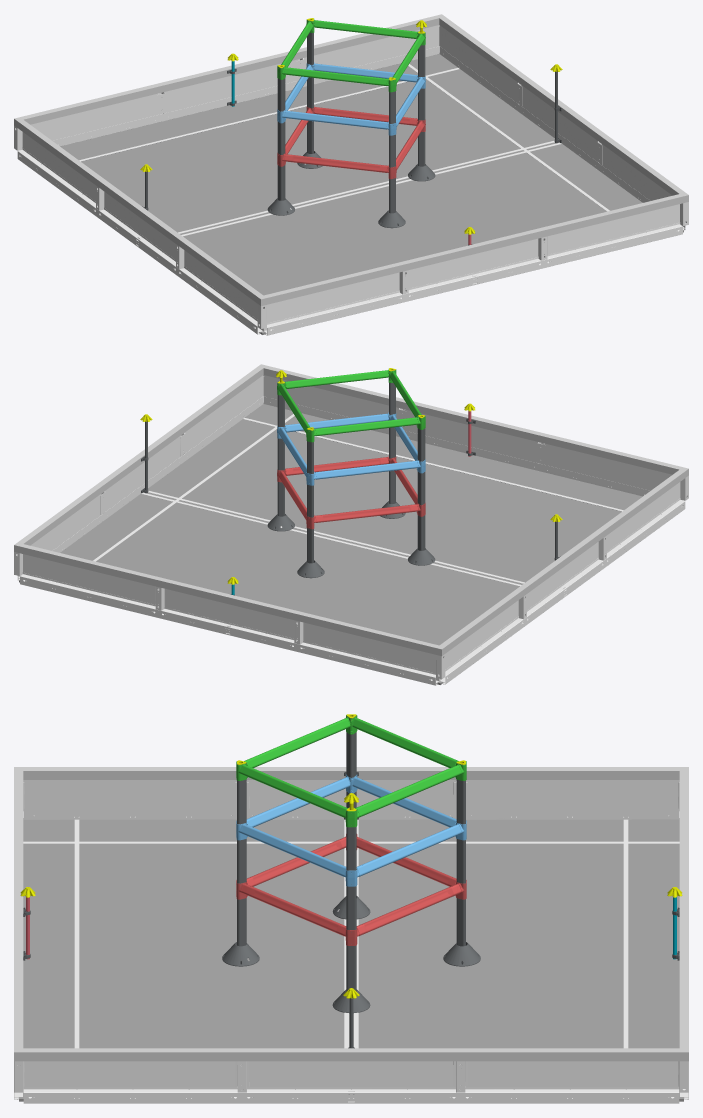
Rendered from Fieldwithwalls2.fbx.
3 renders of one model, top to bottom at view 1: azimuth 30°, elevation 25°; view 2: azimuth 150°, elevation 25°; view 3: azimuth 270°, elevation 25°, orthographic. The views are drawn at different scales.
Parts seen in each view (by area): view 1: Fieldwithwalls4; view 2: Fieldwithwalls4; view 3: Fieldwithwalls4.
Part boxes in pixels (x1,y1,x2,y2): Fieldwithwalls4: (14, 14, 688, 335); Fieldwithwalls4: (14, 364, 688, 685); Fieldwithwalls4: (14, 714, 688, 1103).
Bounding box in the file's own units: 366800 × 128315 × 366800.
